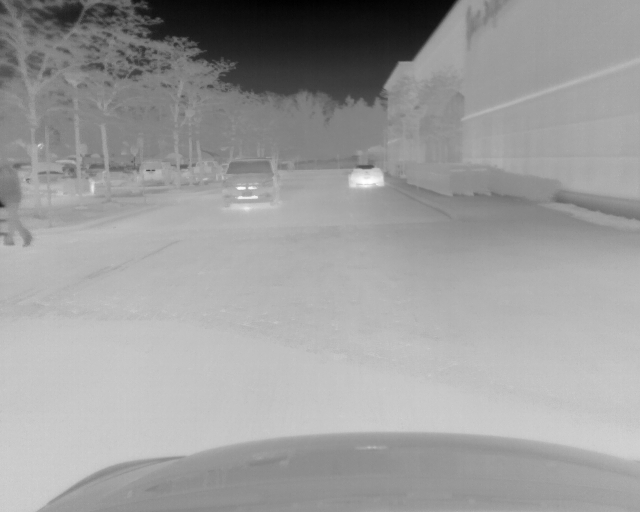car: (221, 157, 278, 207), (25, 157, 98, 196), (136, 158, 176, 183), (346, 163, 383, 189)
people: (1, 167, 36, 249)
